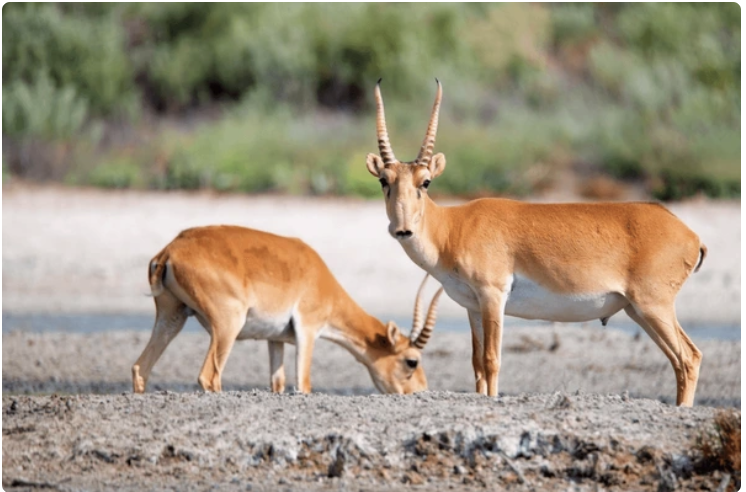saiga: (366, 68, 710, 398)
